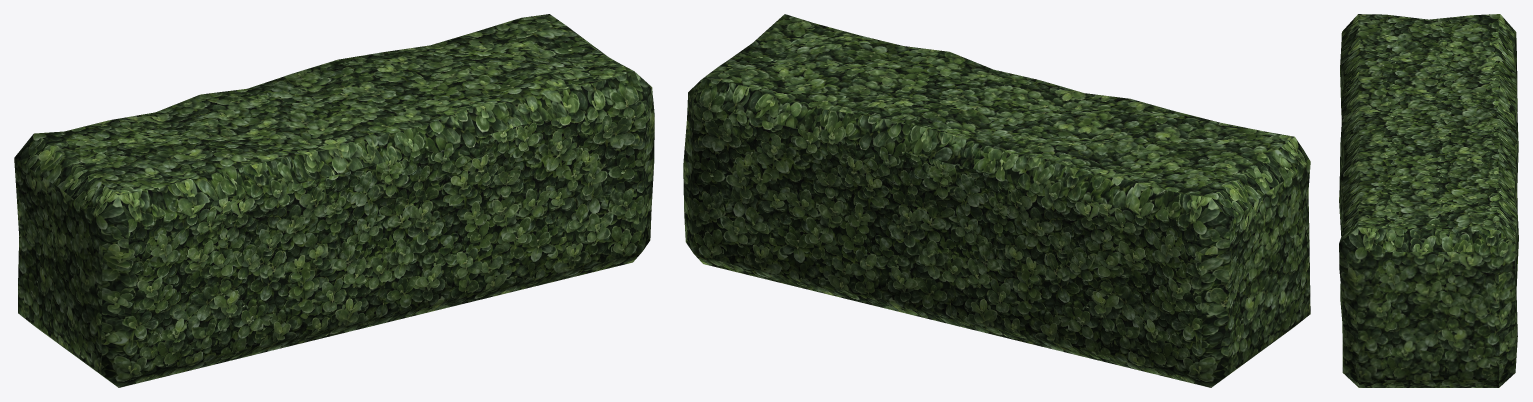
File: CF_LowPolyBoxwoodHedge_3x1_v01.fbx
3 views of the same model, side by side, from view 1: azimuth 30°, elevation 25°; view 2: azimuth 150°, elevation 25°; view 3: azimuth 270°, elevation 25° (orthographic). The views are drawn at different scales.
Parts seen in each view (by area): view 1: CF_LowPolyBoxwoodHedge_3x1_v01; view 2: CF_LowPolyBoxwoodHedge_3x1_v01; view 3: CF_LowPolyBoxwoodHedge_3x1_v01.
Part boxes in pixels (x1,y1,x2,y2): CF_LowPolyBoxwoodHedge_3x1_v01: (14,14,654,387); CF_LowPolyBoxwoodHedge_3x1_v01: (683,14,1310,387); CF_LowPolyBoxwoodHedge_3x1_v01: (1339,14,1518,387).
Size of the model in its own units: 300 by 100 by 100.
